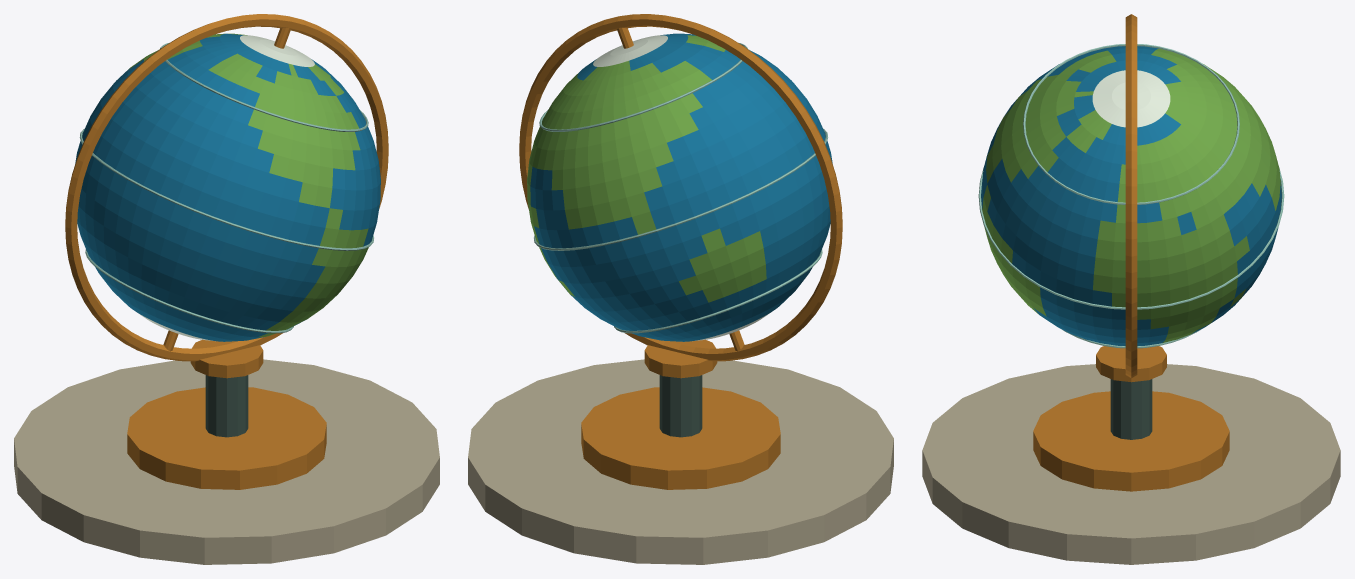
The model's file is landmark_gk.glb.
The picture shows the model from 3 angles, left to right: view 1: azimuth 30°, elevation 25°; view 2: azimuth 150°, elevation 25°; view 3: azimuth 270°, elevation 25°; orthographic projection. The views are drawn at different scales.
Parts seen in each view (by area): view 1: landmark_gk; view 2: landmark_gk; view 3: landmark_gk.
Boxes of the visible parts, x1,y1,x2,y2 form: landmark_gk: (14, 14, 439, 564); landmark_gk: (468, 14, 893, 564); landmark_gk: (922, 14, 1340, 564).
Size of the model in its own units: 2 by 2.35 by 2.
